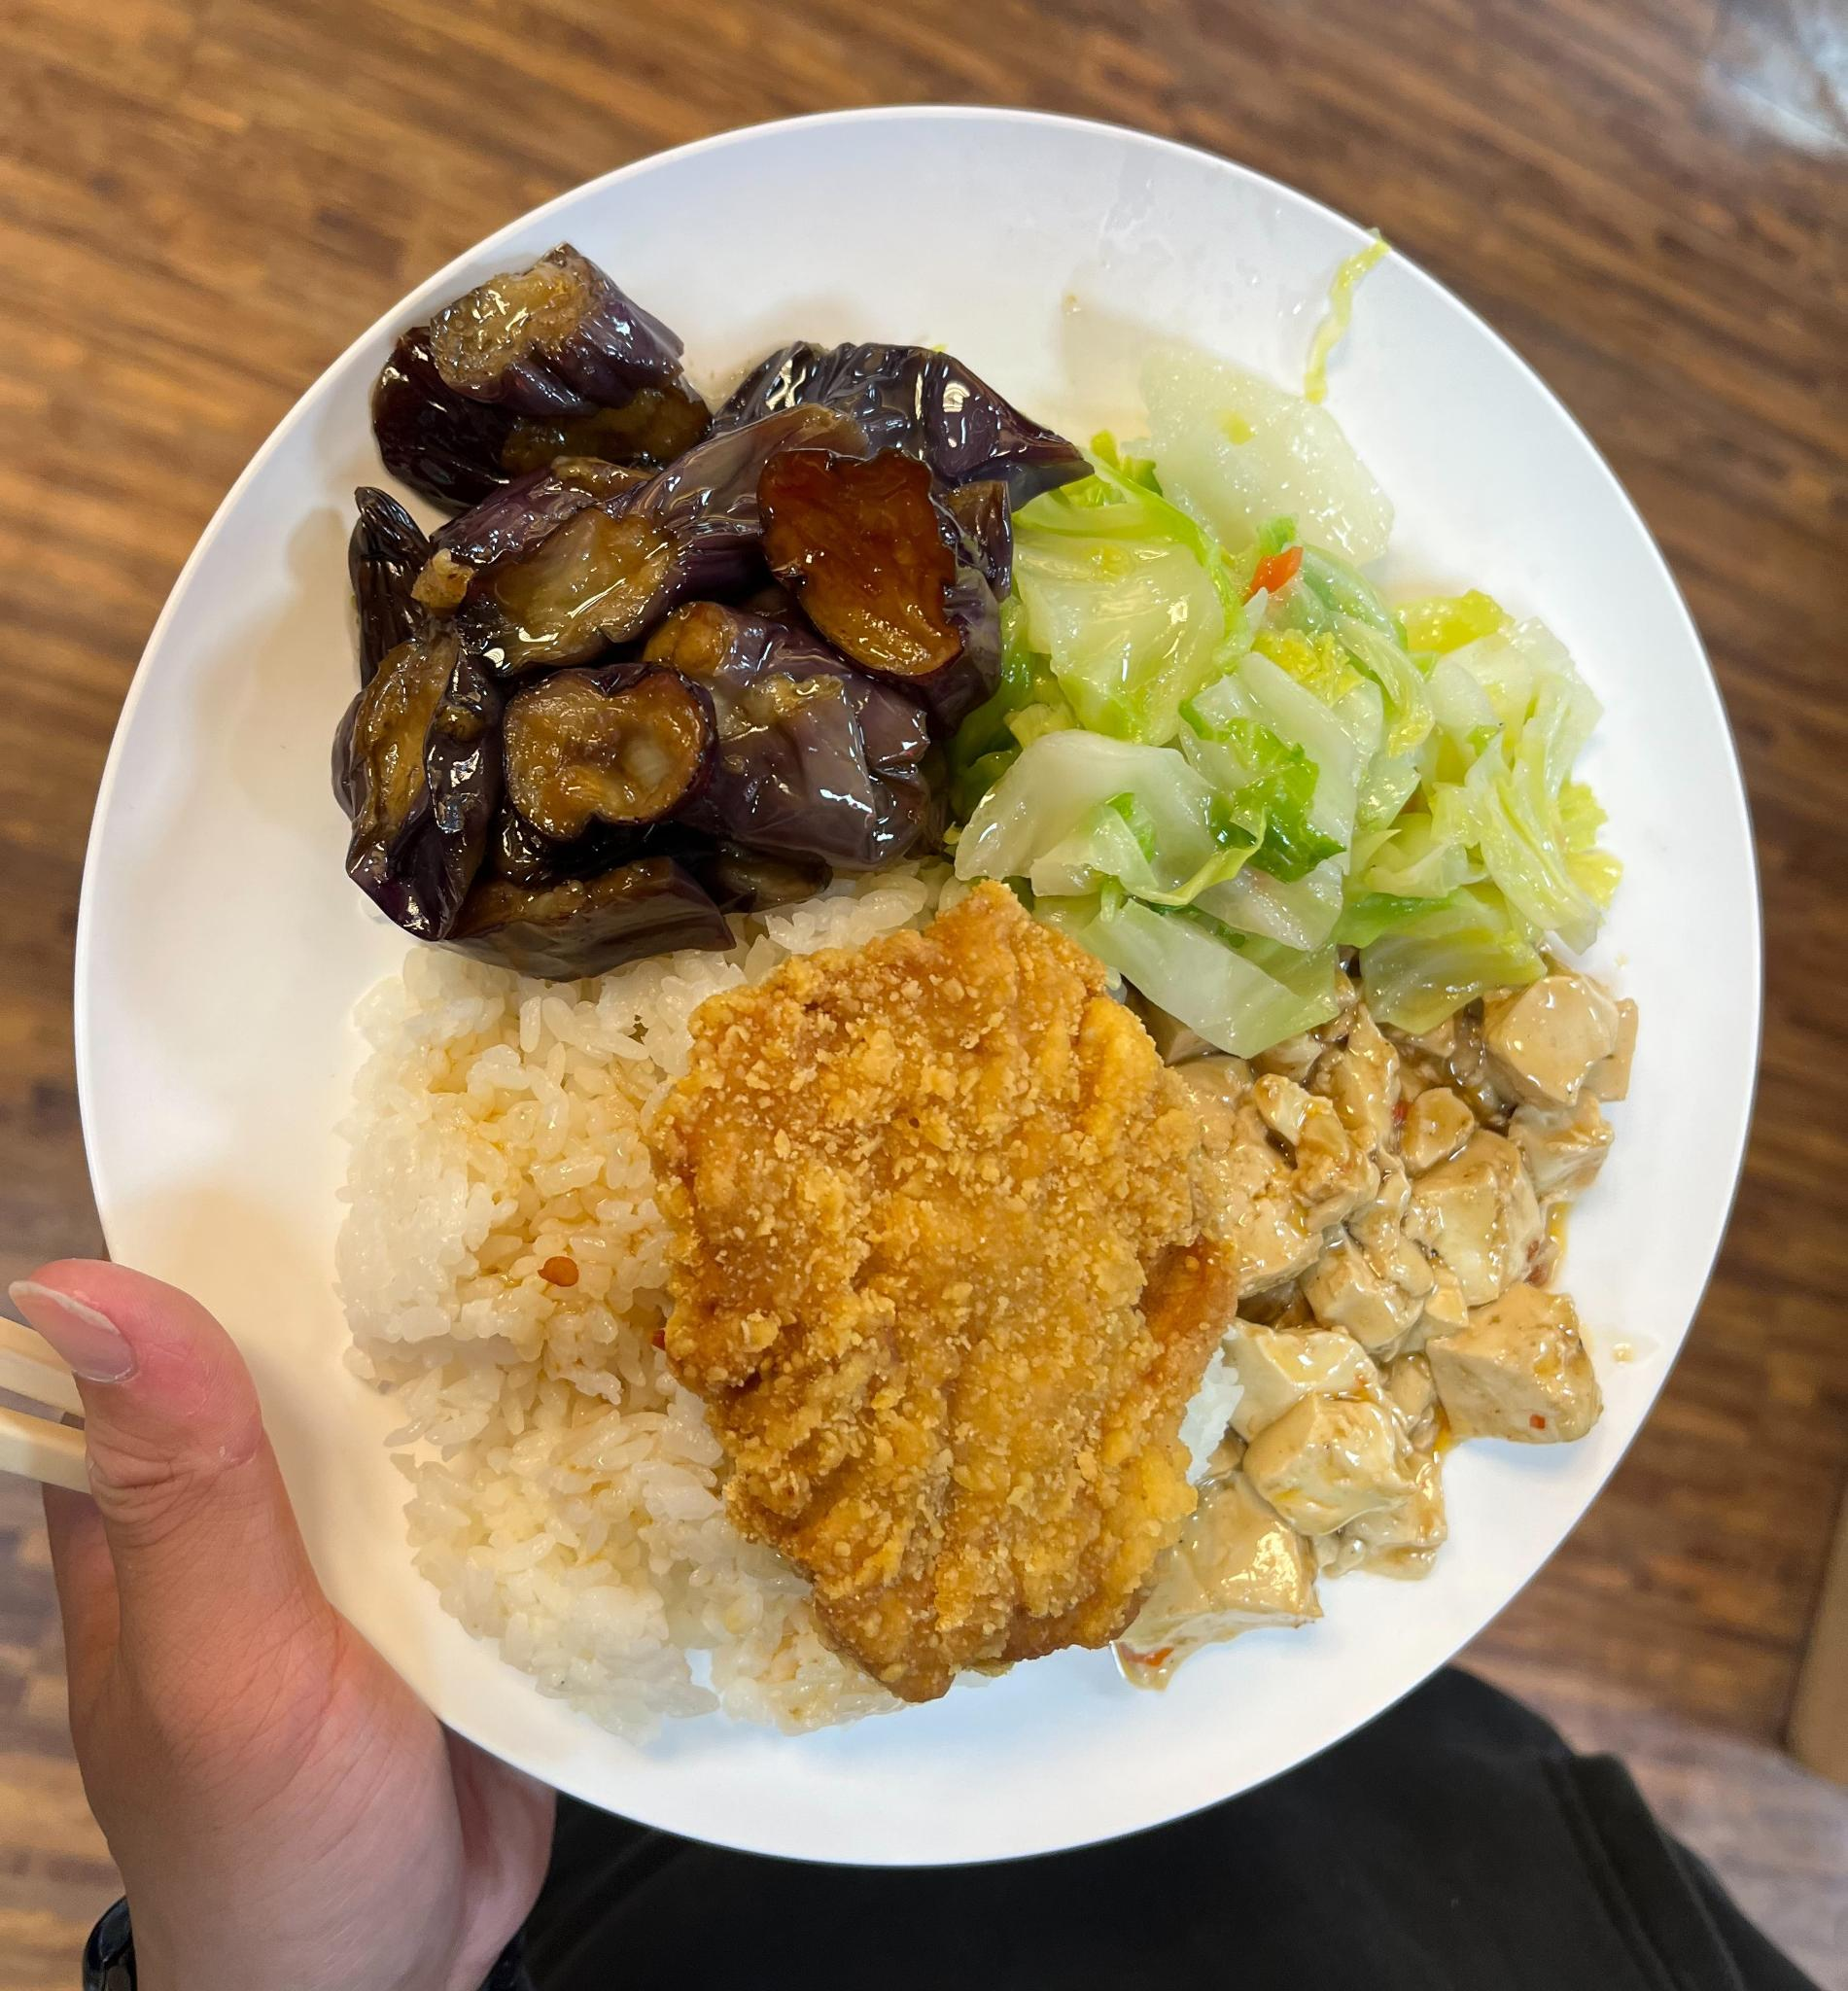big fried chicken leg: (57, 50, 1817, 1895)
big herbal chicken leg: (368, 890, 1157, 1737)
braised fish fillet: (302, 215, 1040, 982), (1016, 393, 1622, 1027), (1205, 956, 1631, 1614)
braised pork: (662, 900, 1240, 1682)
